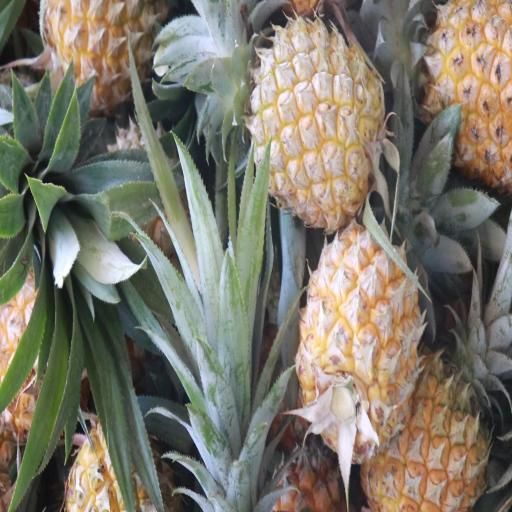------------------------------: (36, 0, 167, 113), (64, 409, 182, 512)
Pineapple - v8 v1: (301, 228, 419, 458), (248, 25, 383, 224), (360, 337, 492, 510), (405, 3, 512, 185)
